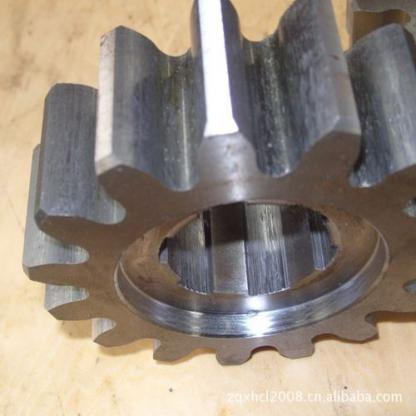FOD: (18, 0, 415, 369)
